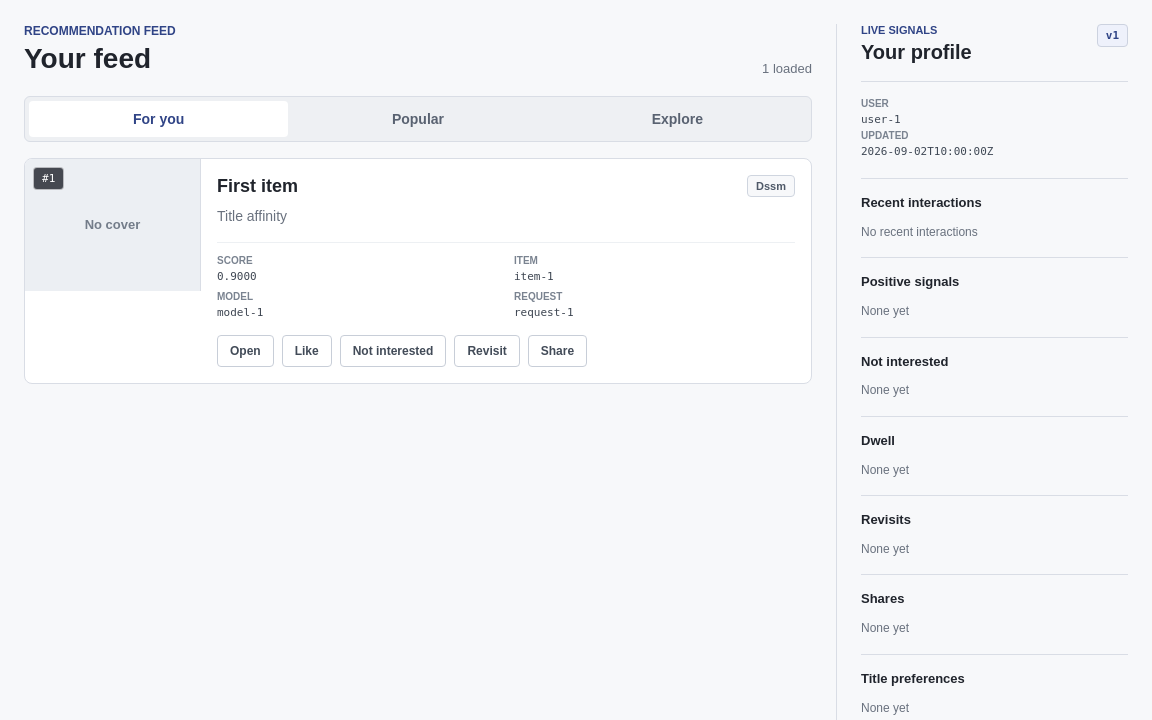
FeedExperience behavior refresh › refreshes profile and requests a cursor-free personalized snapshot after duplicate
The width and height of the screenshot is (1152, 720).
What coordinates should you click on to do the following:
click the button "Like"
I would click on:
 (307, 351)
Its box is [282,335,332,367].
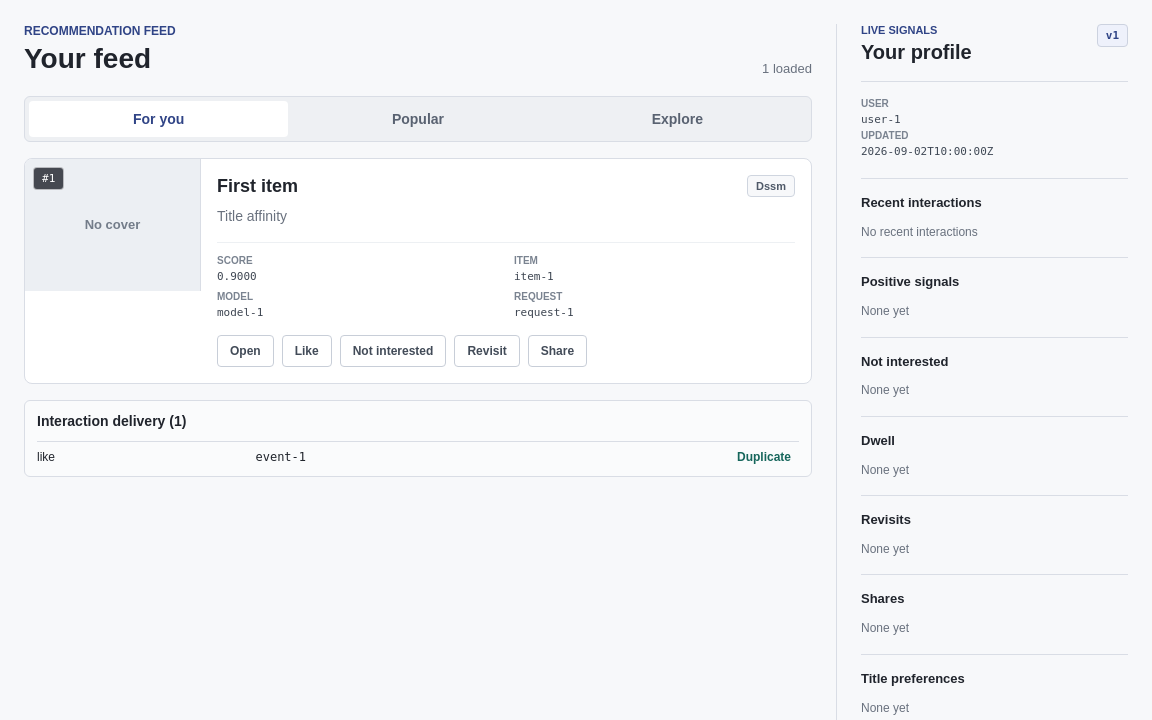
Now the text "duplicate" is shown, box [737,450,791,464]
